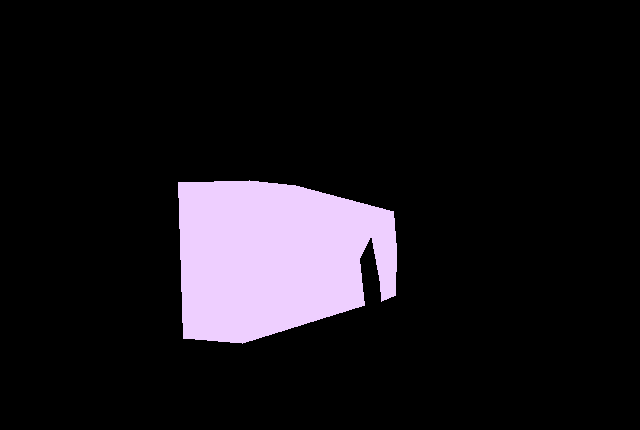Train: (178, 180, 396, 344)
